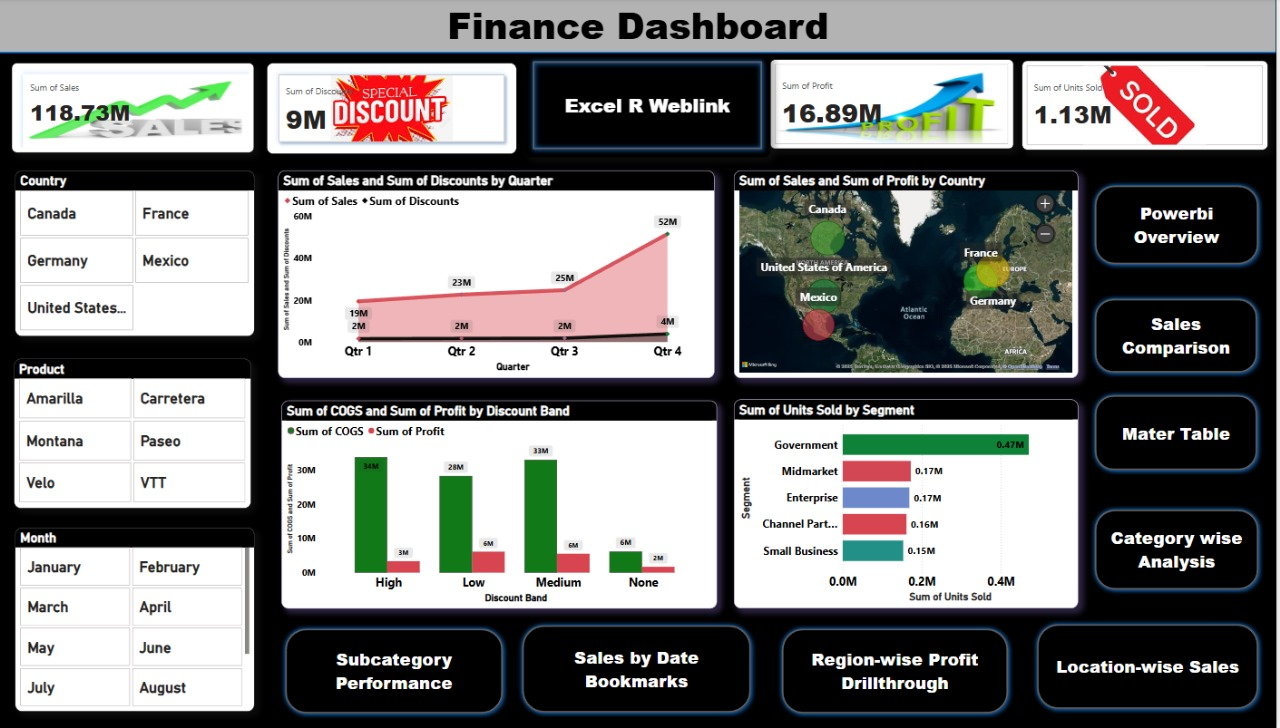

What the dashboard file says about the page in this screenshot:
{"tool":"powerbi","page":{"name":"Q9:Dashboard","canvas":[2350,1350],"ordinal":9},"visuals":[{"type":"map","fields":{"Category":["financials.Country"],"Size":["Sum(financials.Sales)"]},"box":[1352.7,316.7,633.4,382.3],"z":0},{"type":"cardVisual","title":"Total Sales","fields":{"Data":["Sum(financials. Sales)"]},"box":[23.4,119.2,446.4,165.9],"z":1000},{"type":"cardVisual","fields":{"Data":["Sum(financials.Discounts)"]},"box":[493.1,119.2,460.4,168.3],"z":2000},{"type":"cardVisual","fields":{"Data":["Sum(financials.Units Sold)"]},"box":[1882,115.4,452.4,165.1],"z":3000},{"type":"cardVisual","fields":{"Data":["Sum(financials.Profit)"]},"box":[1418.3,113.1,447.9,165.1],"z":4000},{"type":"lineChart","fields":{"Category":["financials.Date.Variation.Date Hierarchy.Year","financials.Date.Variation.Date Hierarchy.Quarter","financials.Date.Variation.Date Hierarchy.Month","financials.Date.Variation.Date Hierarchy.Day"],"Y":["Sum(financials.Sales)","Sum(financials.Discounts)"]},"box":[513.5,316.7,803,382.3],"z":5000},{"type":"actionButton","box":[968.2,101.8,450.2,190],"z":6000},{"type":"actionButton","box":[2008.7,545.2,316.7,153.8],"z":7000},{"type":"actionButton","box":[2008.7,932,319,165.1],"z":8000},{"type":"actionButton","box":[1902.4,1144.6,425.3,174.2],"z":9000},{"type":"actionButton","box":[954.6,1146.9,438.8,178.7],"z":10000},{"type":"actionButton","box":[1431.9,1151.4,434.3,174.2],"z":11000},{"type":"actionButton","box":[518,1151.4,418.5,174.2],"z":12000},{"type":"actionButton","box":[2008.7,337,319,162.9],"z":13000},{"type":"actionButton","box":[0,0,100,40],"z":14000},{"type":"textbox","title":"Finance Dashboard","box":[0,0,2350.3,101.8],"z":15000},{"type":"clusteredColumnChart","fields":{"Category":["financials.Discount Band"],"Y":["Sum(financials.COGS)","Sum(financials.Profit)"]},"box":[518.8,740.8,801.6,383.3],"z":16000},{"type":"barChart","fields":{"Category":["financials.Segment"],"Y":["Sum(financials.Units Sold)"]},"box":[1352.7,739.7,633.4,384.6],"z":17000},{"type":"advancedSlicerVisual","fields":{"Values":["financials.Country"]},"box":[29.4,316.7,441.1,321.2],"z":18000},{"type":"advancedSlicerVisual","fields":{"Values":["financials.Product"]},"box":[27.1,662.8,436.6,276],"z":19000},{"type":"advancedSlicerVisual","fields":{"Values":["financials.Date.Variation.Date Hierarchy.Month"]},"box":[29.4,975,441.1,339.3],"z":20000},{"type":"actionButton","box":[2008.7,721.6,316.7,156.1],"z":21000}]}

Visuals, with their boxes in screenshot pixels (x1, y1, x2, y2), scaled from the page's 2350x1350 canvas onto the 1280x728 screenshot:
map - financials.Country x Sum(financials.Sales): x1=737, y1=171, x2=1082, y2=377
"Total Sales" cardVisual: x1=13, y1=64, x2=256, y2=154
cardVisual - Sum(financials.Discounts): x1=269, y1=64, x2=519, y2=155
cardVisual - Sum(financials.Units Sold): x1=1025, y1=62, x2=1272, y2=151
cardVisual - Sum(financials.Profit): x1=773, y1=61, x2=1016, y2=150
lineChart - financials.Date.Variation.Date Hierarchy.Year x financials.Date.Variation.Date Hierarchy.Quarter: x1=280, y1=171, x2=717, y2=377
actionButton: x1=527, y1=55, x2=773, y2=157
actionButton: x1=1094, y1=294, x2=1267, y2=377
actionButton: x1=1094, y1=503, x2=1268, y2=592
actionButton: x1=1036, y1=617, x2=1268, y2=711
actionButton: x1=520, y1=618, x2=759, y2=715
actionButton: x1=780, y1=621, x2=1016, y2=715
actionButton: x1=282, y1=621, x2=510, y2=715
actionButton: x1=1094, y1=182, x2=1268, y2=270
actionButton: x1=0, y1=0, x2=54, y2=22
"Finance Dashboard" textbox: x1=0, y1=0, x2=1279, y2=55
clusteredColumnChart - financials.Discount Band x Sum(financials.COGS): x1=283, y1=399, x2=719, y2=606
barChart - financials.Segment x Sum(financials.Units Sold): x1=737, y1=399, x2=1082, y2=606
advancedSlicerVisual - financials.Country: x1=16, y1=171, x2=256, y2=344
advancedSlicerVisual - financials.Product: x1=15, y1=357, x2=253, y2=506
advancedSlicerVisual - financials.Date.Variation.Date Hierarchy.Month: x1=16, y1=526, x2=256, y2=709
actionButton: x1=1094, y1=389, x2=1267, y2=473
